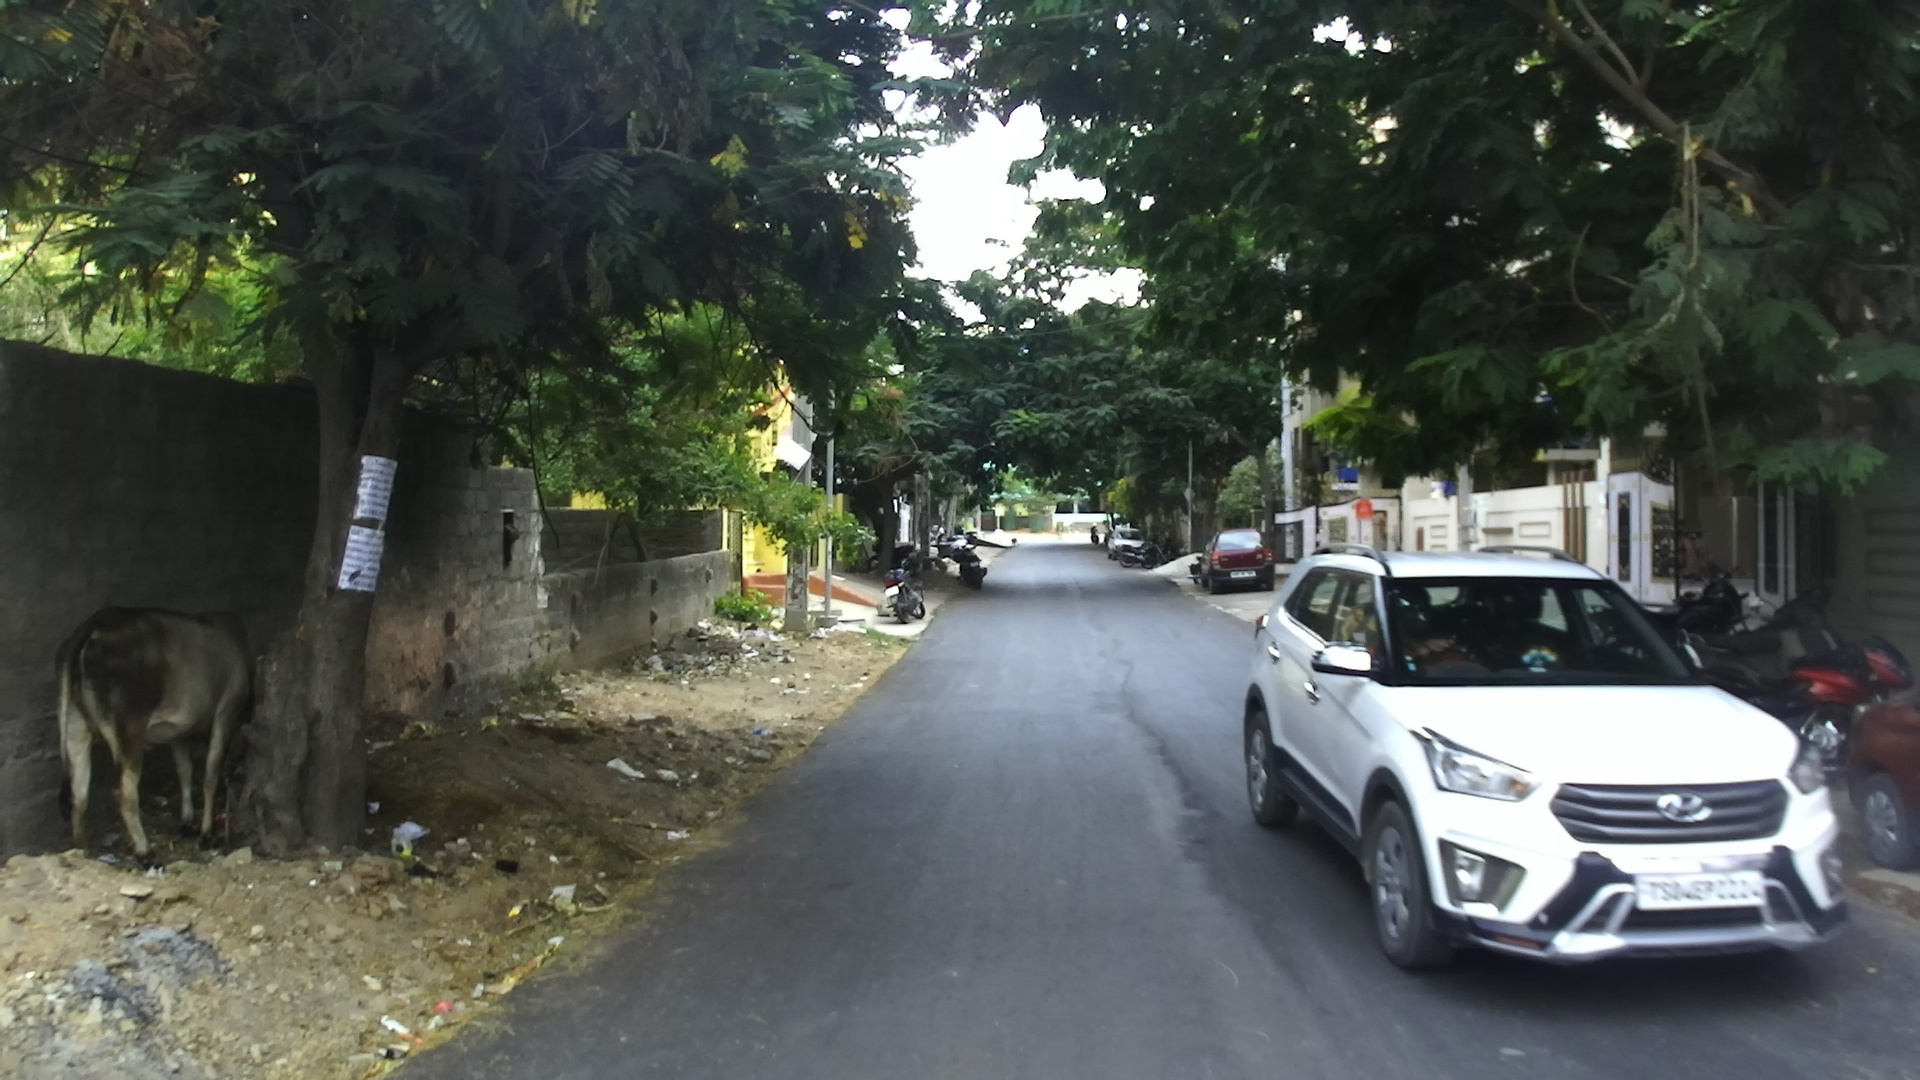vehicle: (1240, 549, 1871, 969), (1203, 530, 1271, 591), (876, 578, 930, 622), (1104, 525, 1153, 566)
